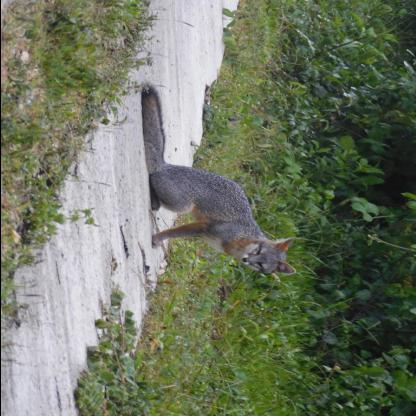zorro: (137, 78, 301, 280)
